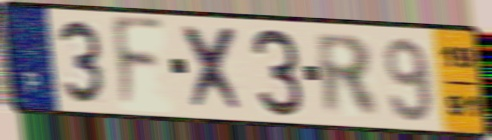3: (248, 24, 304, 120), (56, 17, 105, 106)
9: (382, 34, 436, 124)
F: (110, 14, 168, 114)
R: (311, 30, 384, 120)
X: (178, 22, 250, 115)
